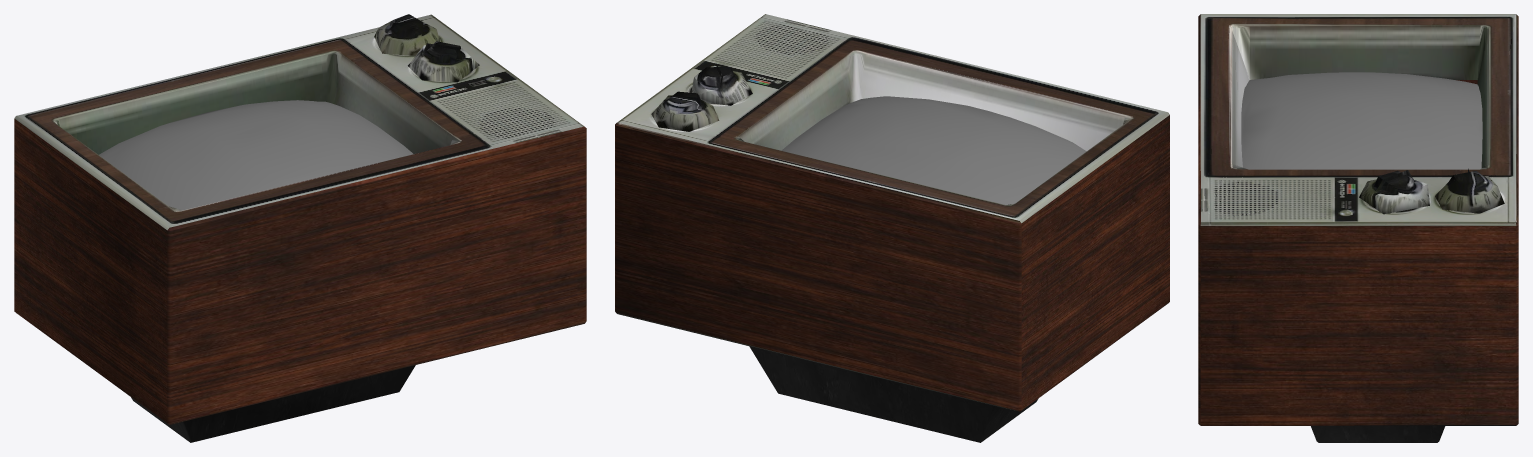
3 renders of one model, left to right at view 1: azimuth 30°, elevation 25°; view 2: azimuth 150°, elevation 25°; view 3: azimuth 270°, elevation 25°, orthographic. The views are drawn at different scales.
Parts seen in each view (by area): view 1: polySurface1, screenSurface, pCube2, pCube6; view 2: polySurface1, screenSurface, pCube2, pCube6; view 3: polySurface1, screenSurface, pCube6, pCube2.
Part boxes in pixels (x1,y1,x2,y2): polySurface1: [14, 14, 586, 424]; screenSurface: [99, 100, 413, 210]; pCube2: [131, 365, 415, 442]; pCube6: [374, 14, 479, 82]; polySurface1: [615, 14, 1169, 411]; screenSurface: [781, 96, 1086, 204]; pCube2: [749, 346, 1038, 442]; pCube6: [651, 63, 752, 131]; polySurface1: [1198, 14, 1518, 425]; screenSurface: [1241, 72, 1482, 169]; pCube6: [1359, 168, 1504, 214]; pCube2: [1311, 426, 1445, 442].
Bounding box in the file's own units: 1.71 × 1.17 × 1.1.
2 materials, 1 textured.
